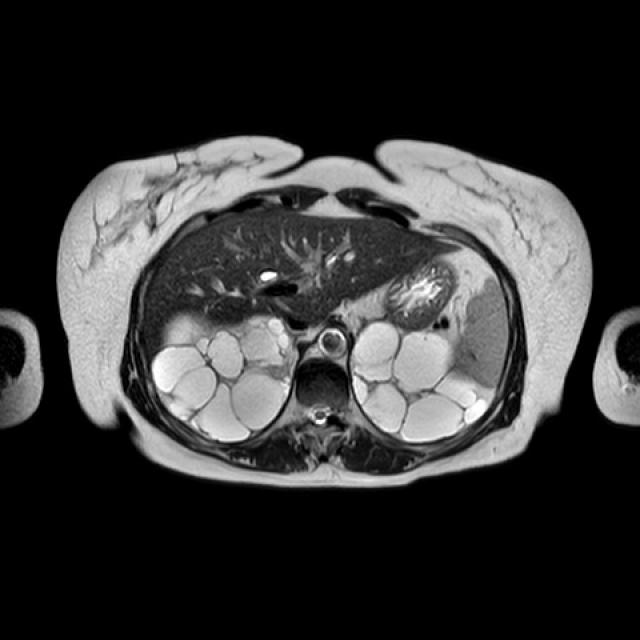sag: (155, 315, 294, 442)
sol: (352, 317, 490, 441)
